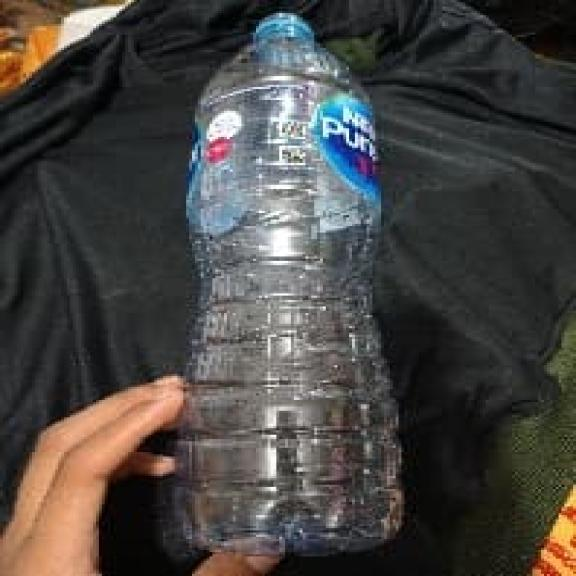Plastik: (180, 13, 405, 554)
